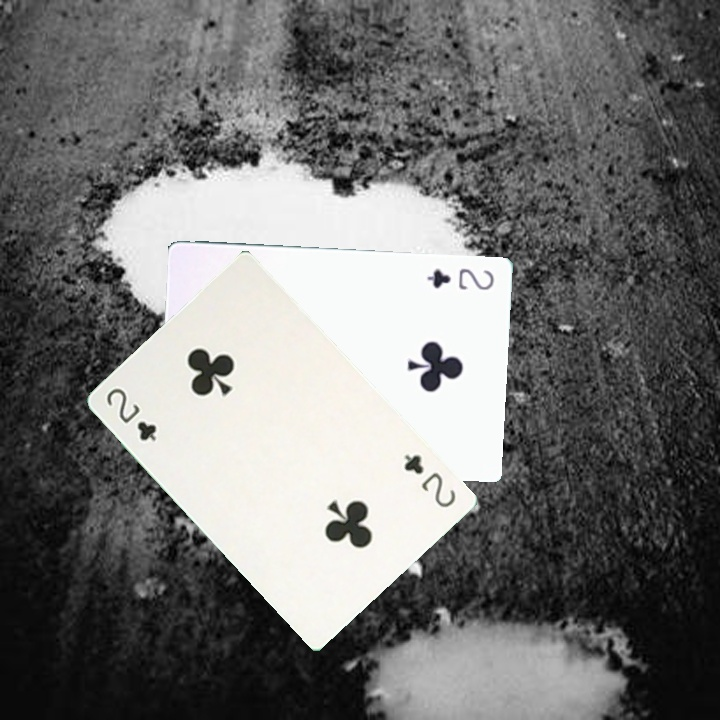2c: (400, 450, 459, 511), (102, 384, 159, 444), (423, 264, 496, 293)
